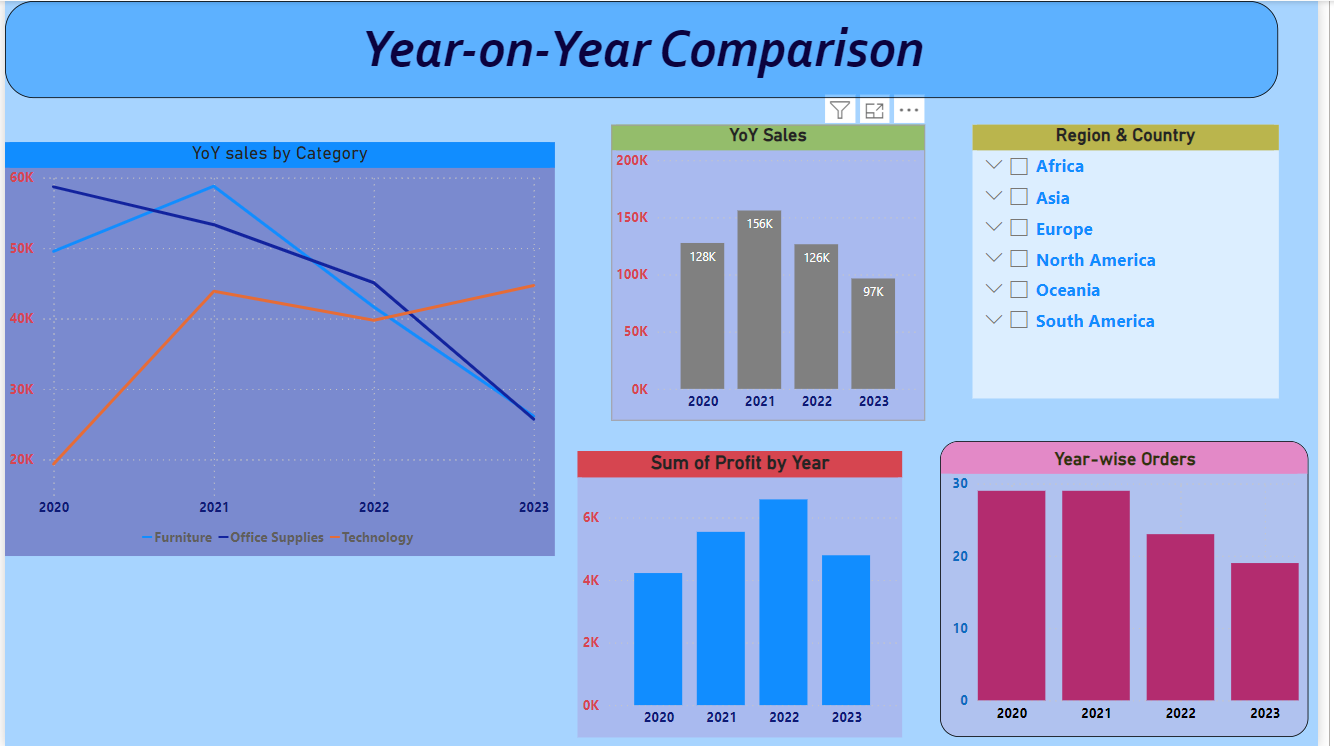

This screenshot's page, from the dashboard's own definition file:
{"tool":"powerbi","page":{"name":"YoY ","canvas":[1320,750],"ordinal":2},"visuals":[{"type":"columnChart","fields":{"Y":["Sum(Sales Information.Profit)"],"Category":["Sales Information.Order_Date.Variation.Date Hierarchy.Year"]},"box":[575.4,452.3,326.6,287.7],"z":0},{"type":"columnChart","title":"YoY Sales","fields":{"Y":["Sum(Sales Information.Sales)"],"Category":["Sales Information.Order_Date.Variation.Date Hierarchy.Year"]},"box":[609.3,124.4,315.3,297.7],"z":1000},{"type":"columnChart","title":"Year-wise Orders","fields":{"Category":["Sales Information.Order_Date.Variation.Date Hierarchy.Year"],"Y":["CountNonNull(Sales Information.Order_ID)"]},"box":[939.7,442.2,370.6,297.7],"z":2000},{"type":"lineChart","title":"YoY sales by Category","fields":{"Category":["Sales Information.Order_Date.Variation.Date Hierarchy.Year"],"Series":["Sales Information.Product Information.Column2"],"Y":["Sum(Sales Information.Sales)"]},"box":[0,142,552.8,415.8],"z":3000},{"type":"textbox","box":[0,0,1279.9,97.8],"z":4000},{"type":"slicer","title":"Region & Country","fields":{"Values":["Sales Information.Region","Sales Information.Country"]},"box":[972.4,124.4,307.8,275.1],"z":5000}]}

Visuals, with their boxes in screenshot pixels (x1, y1, x2, y2), scaled from the page's 1320x750 canvas onto the 1334x746 screenshot:
columnChart - Sum(Sales Information.Profit) x Sales Information.Order_Date.Variation.Date Hierarchy.Year: {"left": 582, "top": 450, "right": 912, "bottom": 736}
"YoY Sales" columnChart: {"left": 616, "top": 124, "right": 934, "bottom": 420}
"Year-wise Orders" columnChart: {"left": 950, "top": 440, "right": 1324, "bottom": 736}
"YoY sales by Category" lineChart: {"left": 0, "top": 141, "right": 559, "bottom": 555}
textbox: {"left": 0, "top": 0, "right": 1293, "bottom": 97}
"Region & Country" slicer: {"left": 983, "top": 124, "right": 1294, "bottom": 397}
